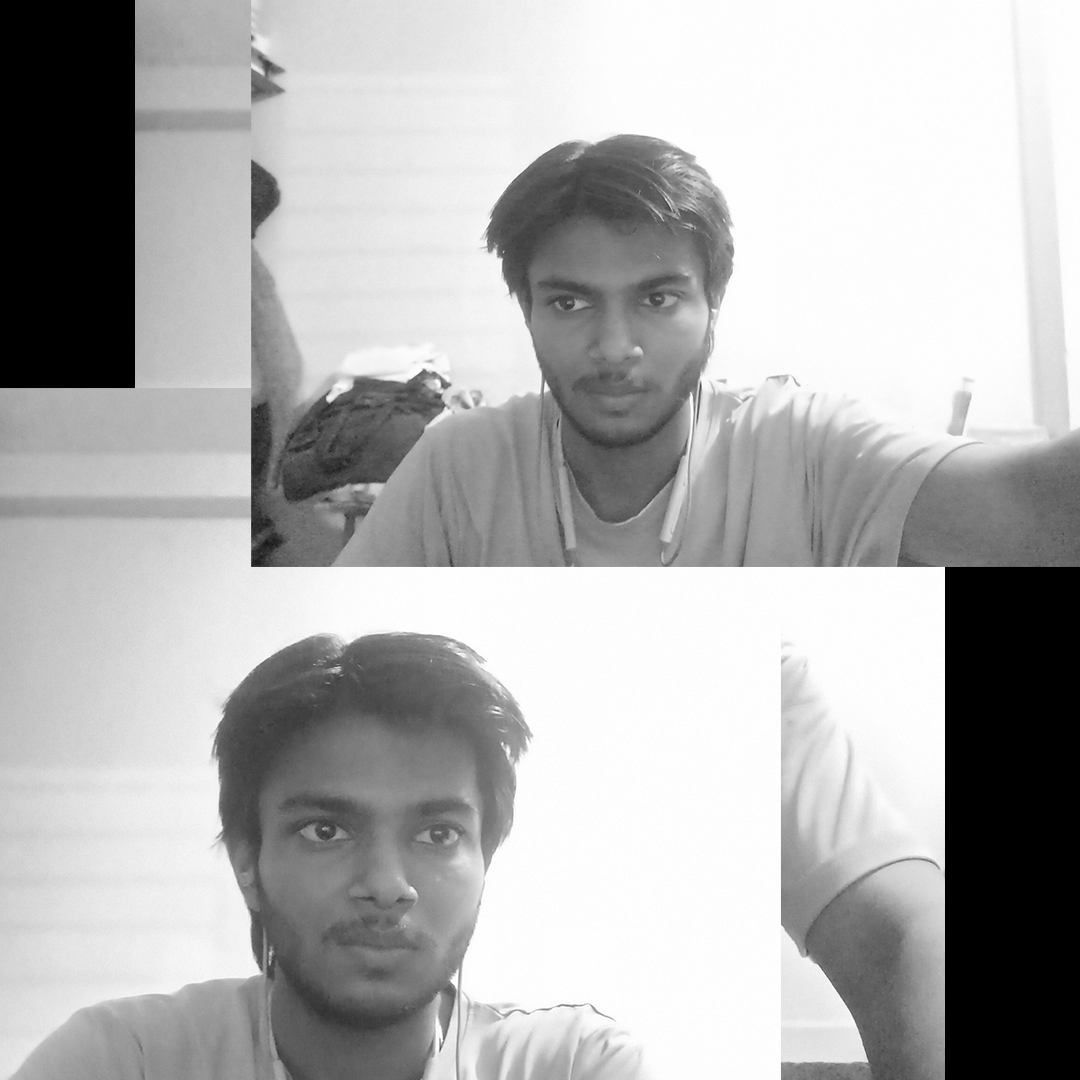Focused: (338, 36, 850, 521), (107, 642, 568, 1000)
